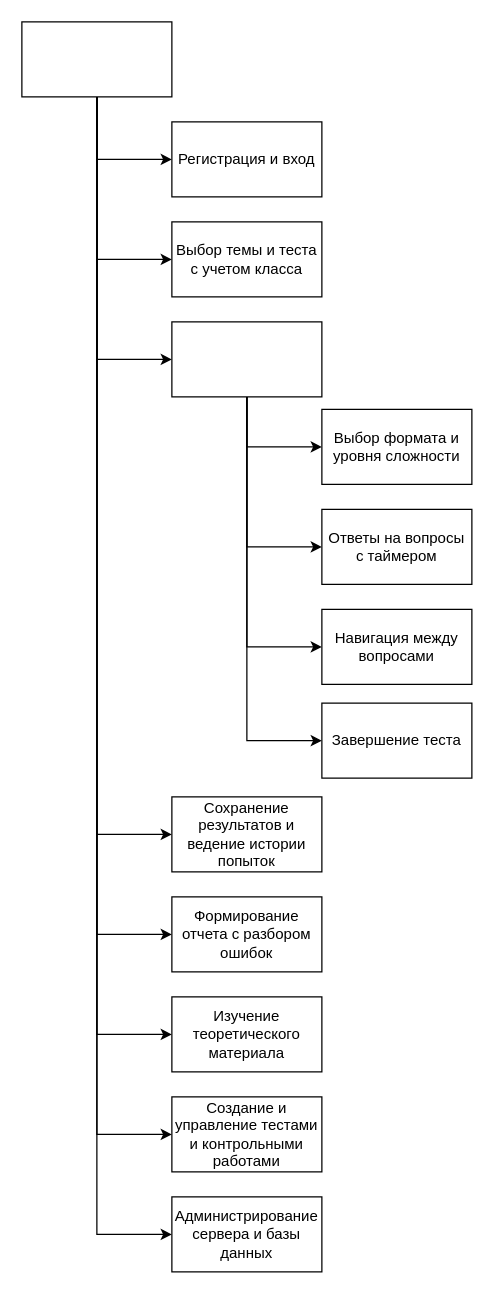
Image size: 494x1294. Some labels were removed from this diagram. The box of each missing label's shape, as (x1, y1, x2, y2) in pixels:
Matrix: (21, 21, 172, 97)
Прохождение тестирования: (171, 321, 322, 397)
